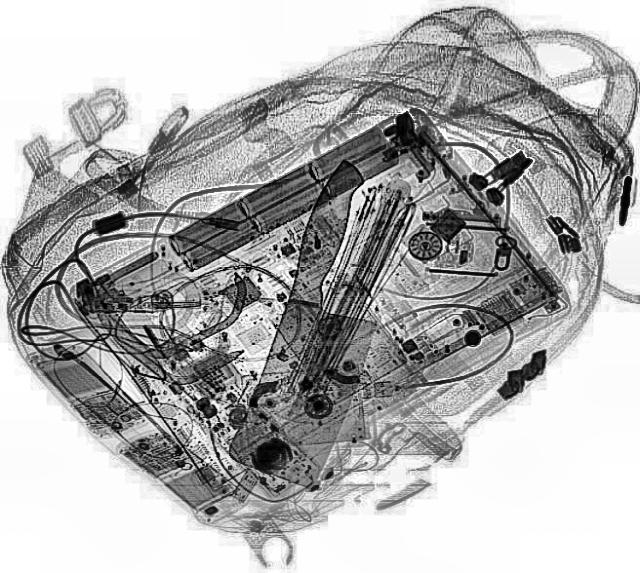Knife: (218, 157, 430, 489)
